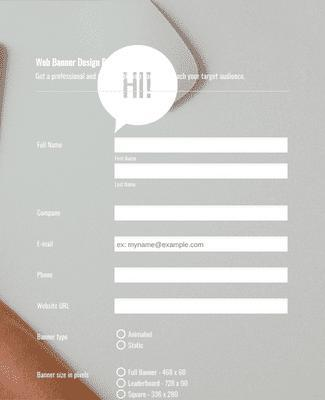input: (114, 235, 291, 256), (113, 204, 291, 224), (114, 136, 291, 156), (114, 298, 291, 318), (114, 267, 291, 286), (113, 163, 291, 181)
label: (129, 380, 192, 390), (128, 368, 188, 378), (37, 371, 90, 381), (34, 333, 72, 346), (129, 392, 184, 400), (35, 139, 66, 152), (35, 302, 74, 312), (36, 270, 60, 284), (35, 208, 62, 219), (34, 240, 58, 251), (128, 331, 156, 340), (114, 156, 138, 163), (116, 182, 137, 190), (127, 343, 147, 351)
radio: (117, 341, 127, 352), (117, 366, 127, 377), (117, 390, 128, 400), (117, 330, 127, 340), (117, 379, 127, 388)
